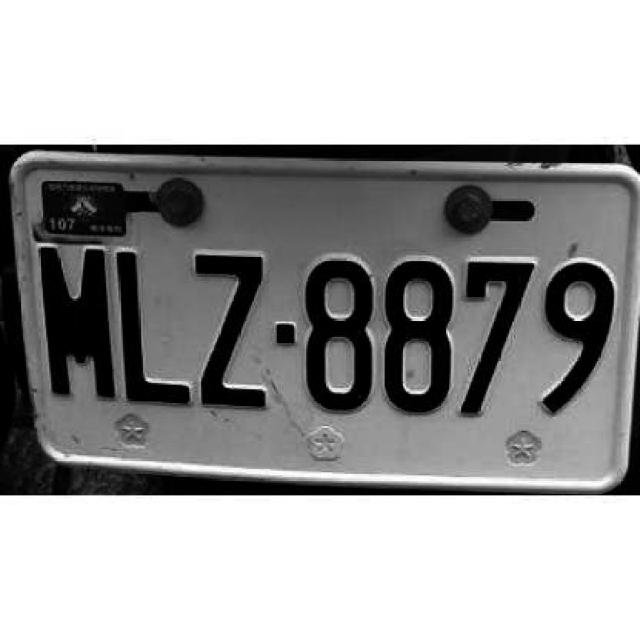-: (272, 316, 296, 350)
7: (458, 252, 536, 420)
8: (298, 247, 376, 418), (380, 254, 454, 418)
9: (536, 258, 612, 418)
L: (115, 248, 191, 404)
M: (32, 242, 117, 402)
Z: (190, 243, 264, 414)
